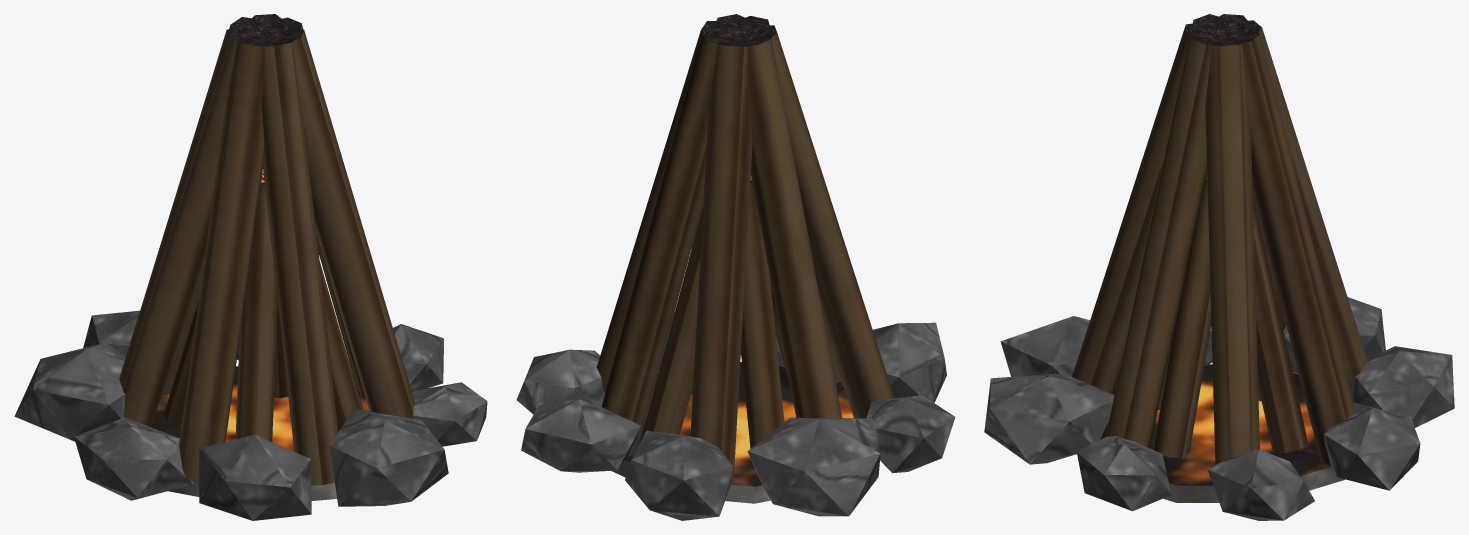
File: bonfire.glb
3 views of the same model, side by side, from view 1: azimuth 30°, elevation 25°; view 2: azimuth 150°, elevation 25°; view 3: azimuth 270°, elevation 25° (orthographic).
Parts seen in each view (by area): view 1: bonfire; view 2: bonfire; view 3: bonfire.
Boxes of the visible parts, x1,y1,x2,y2 form: bonfire: (14,14,487,520); bonfire: (516,14,955,520); bonfire: (984,14,1454,520).
Bounding box in the file's own units: 0.9411 × 0.9841 × 0.9952.
1 material, 1 textured.
